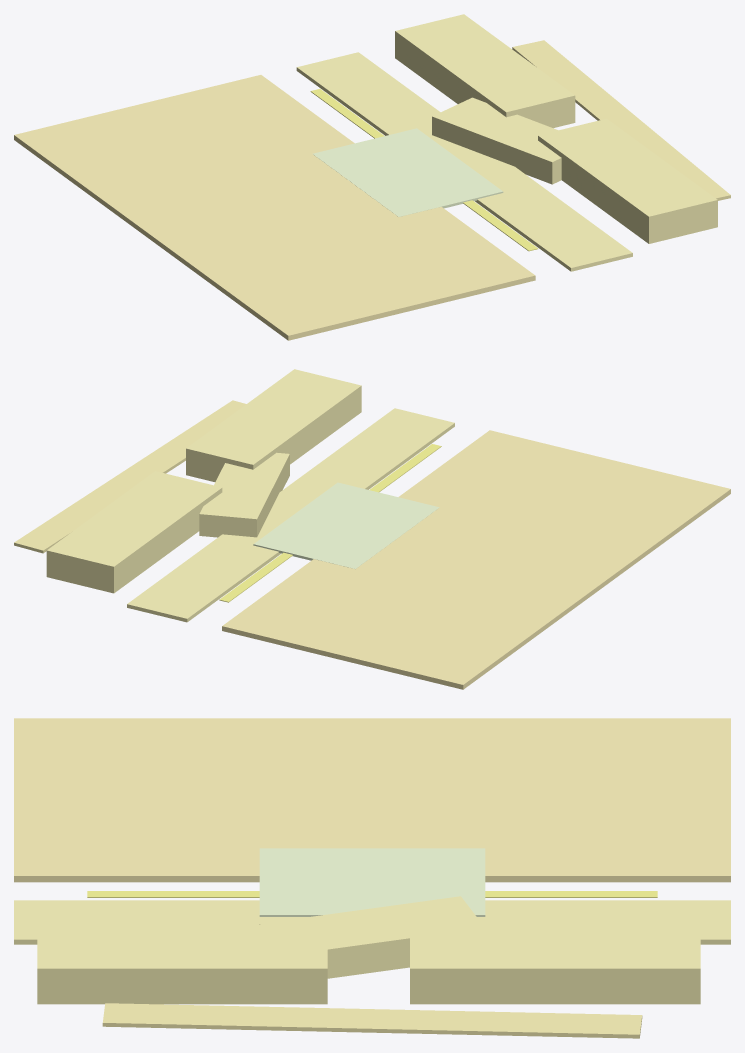
File: road_workzone_barrier_chicane.glb
3 views of the same model, one above another, from view 1: azimuth 30°, elevation 25°; view 2: azimuth 150°, elevation 25°; view 3: azimuth 270°, elevation 25° (orthographic). The views are drawn at different scales.
Parts seen in each view (by area): view 1: travel_lane, temporary_pad, barrier_block_right, barrier_block_left, steel_bypass_plate, barrier_link, gravel_bypass_fill, temp_edge; view 2: travel_lane, temporary_pad, barrier_block_left, barrier_block_right, steel_bypass_plate, gravel_bypass_fill, barrier_link, temp_edge; view 3: travel_lane, barrier_block_left, barrier_block_right, steel_bypass_plate, temporary_pad, gravel_bypass_fill, barrier_link, temp_edge.
Part boxes in pixels (x1,y1,x2,y2): travel_lane: (14,75,535,340); temporary_pad: (296,52,632,271); barrier_block_right: (538,118,717,243); barrier_block_left: (395,14,575,128); steel_bypass_plate: (312,128,503,216); barrier_link: (432,97,561,184); gravel_bypass_fill: (512,40,730,200); temp_edge: (310,89,538,251); travel_lane: (222,430,730,689); temporary_pad: (127,408,454,622); barrier_block_left: (46,471,222,593); barrier_block_right: (186,369,361,481); steel_bypass_plate: (253,482,439,568); gravel_bypass_fill: (14,400,246,553); barrier_link: (199,452,289,537); temp_edge: (219,444,441,602); travel_lane: (14,718,730,882); barrier_block_left: (410,924,700,1004); barrier_block_right: (37,924,327,1004); steel_bypass_plate: (259,848,485,916); temporary_pad: (14,900,730,944); gravel_bypass_fill: (102,1003,642,1038); barrier_link: (259,896,482,978); temp_edge: (87,891,657,897).
Size of the model in its own units: 4.17 by 0.22 by 4.
